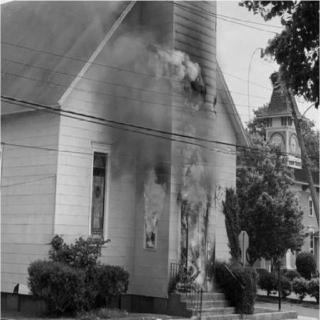Fire: (178, 156, 210, 290), (141, 165, 167, 248), (213, 144, 231, 154)
Smoke: (119, 44, 169, 148), (173, 51, 199, 81)
